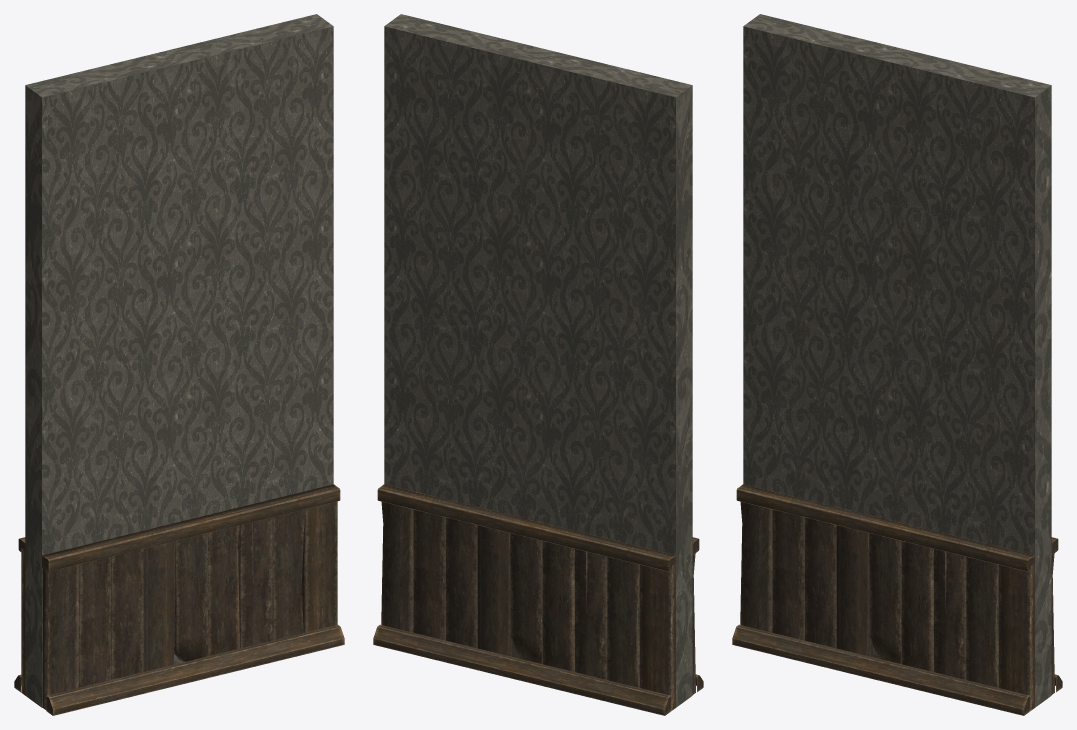
File: SM_Wall_2_Side.fbx
3 views of the same model, side by side, from view 1: azimuth 30°, elevation 25°; view 2: azimuth 150°, elevation 25°; view 3: azimuth 330°, elevation 25° (orthographic).
Visible parts, largest first — view 1: SM_Wall_2_Side; view 2: SM_Wall_2_Side; view 3: SM_Wall_2_Side.
Boxes of the visible parts, x1,y1,x2,y2 form: SM_Wall_2_Side: [14, 14, 344, 715]; SM_Wall_2_Side: [373, 14, 703, 715]; SM_Wall_2_Side: [732, 14, 1062, 715].
Bounding box in the file's own units: 2 × 4 × 0.46.
